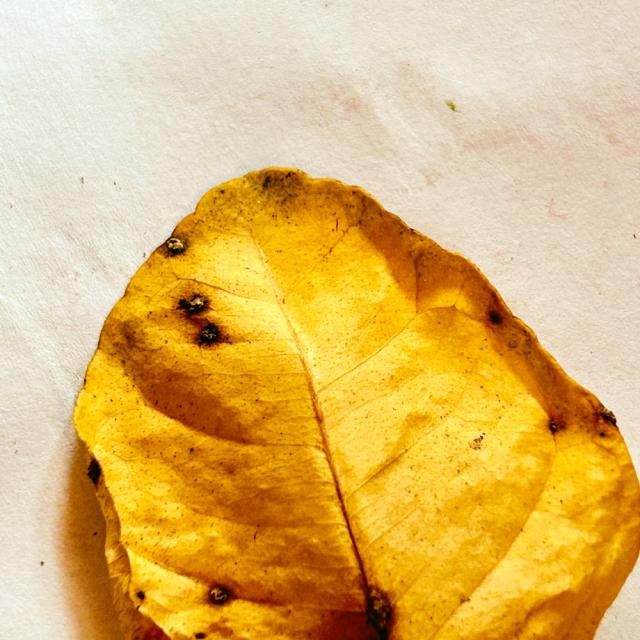DryLeaf_Lemon: (74, 170, 639, 639)
